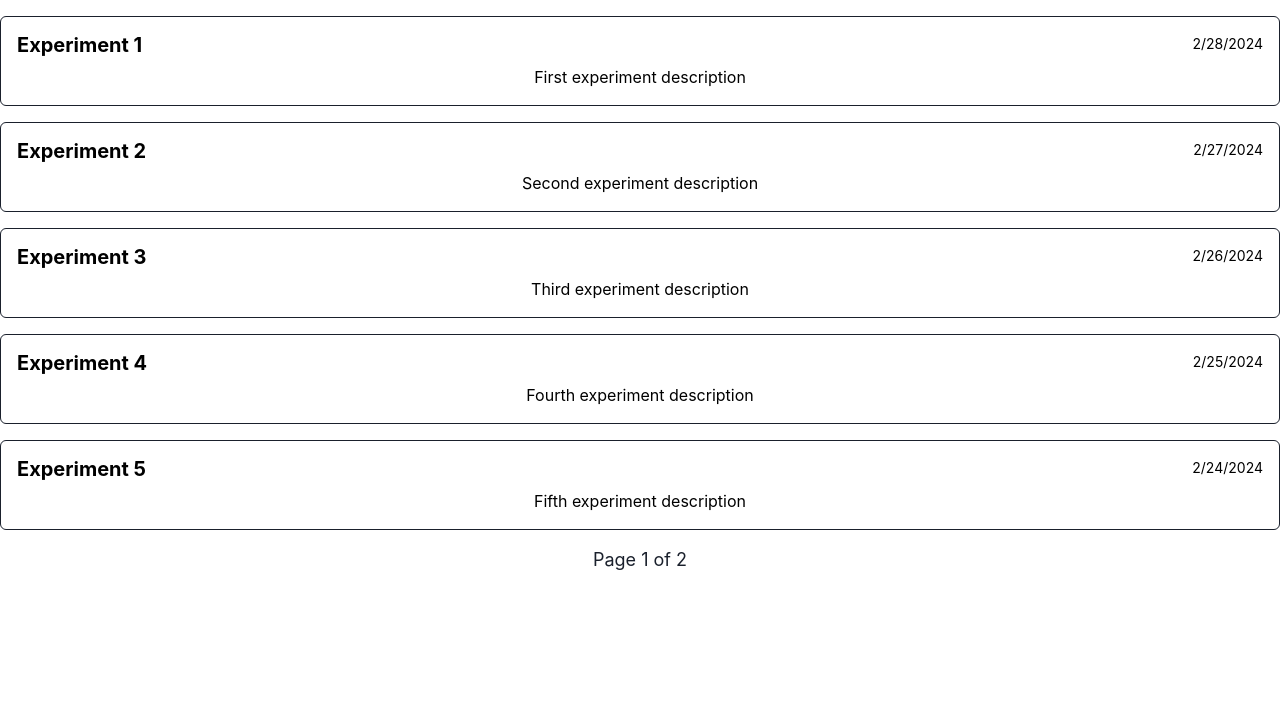
Test case: ExperimentList Component › clicking an experiment opens modal with details
Click the heading "Experiment 1" at (80,45), box [17,33,142,57]
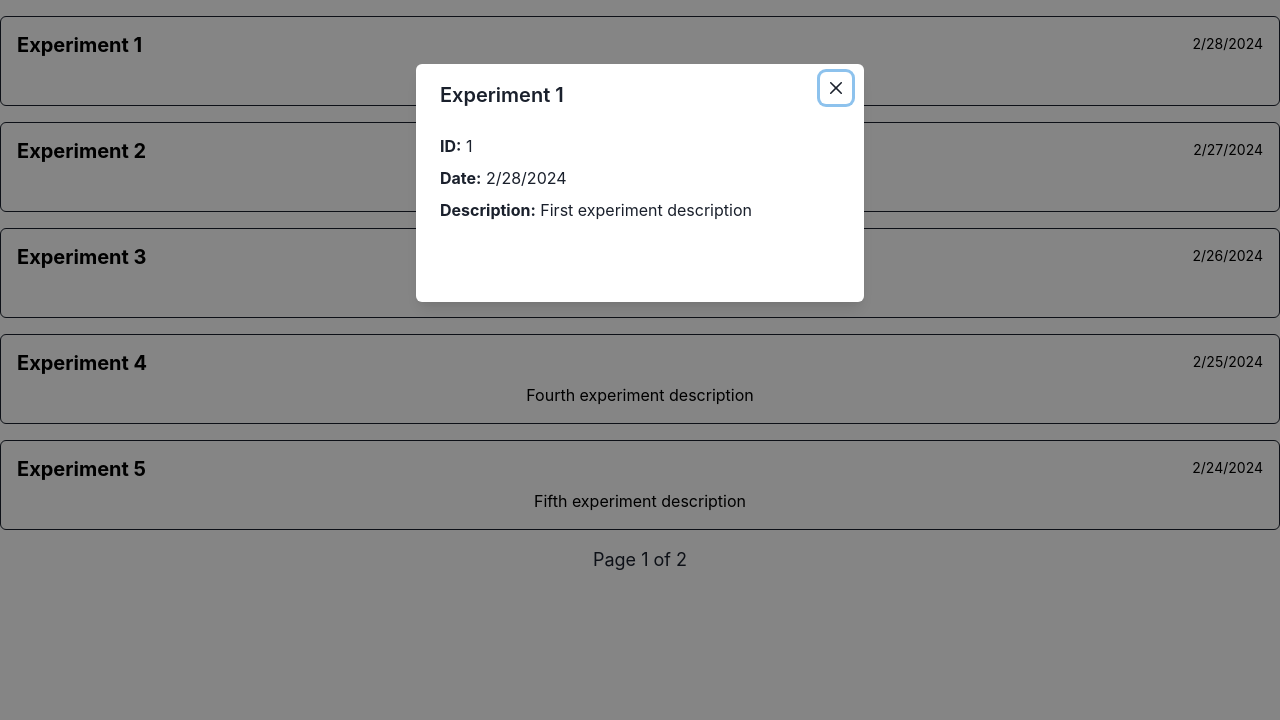
Now the element with test id "experiment-description" is shown, box [440,198,752,222]
Now the element with test id "experiment-id" is shown, box [440,134,472,158]
